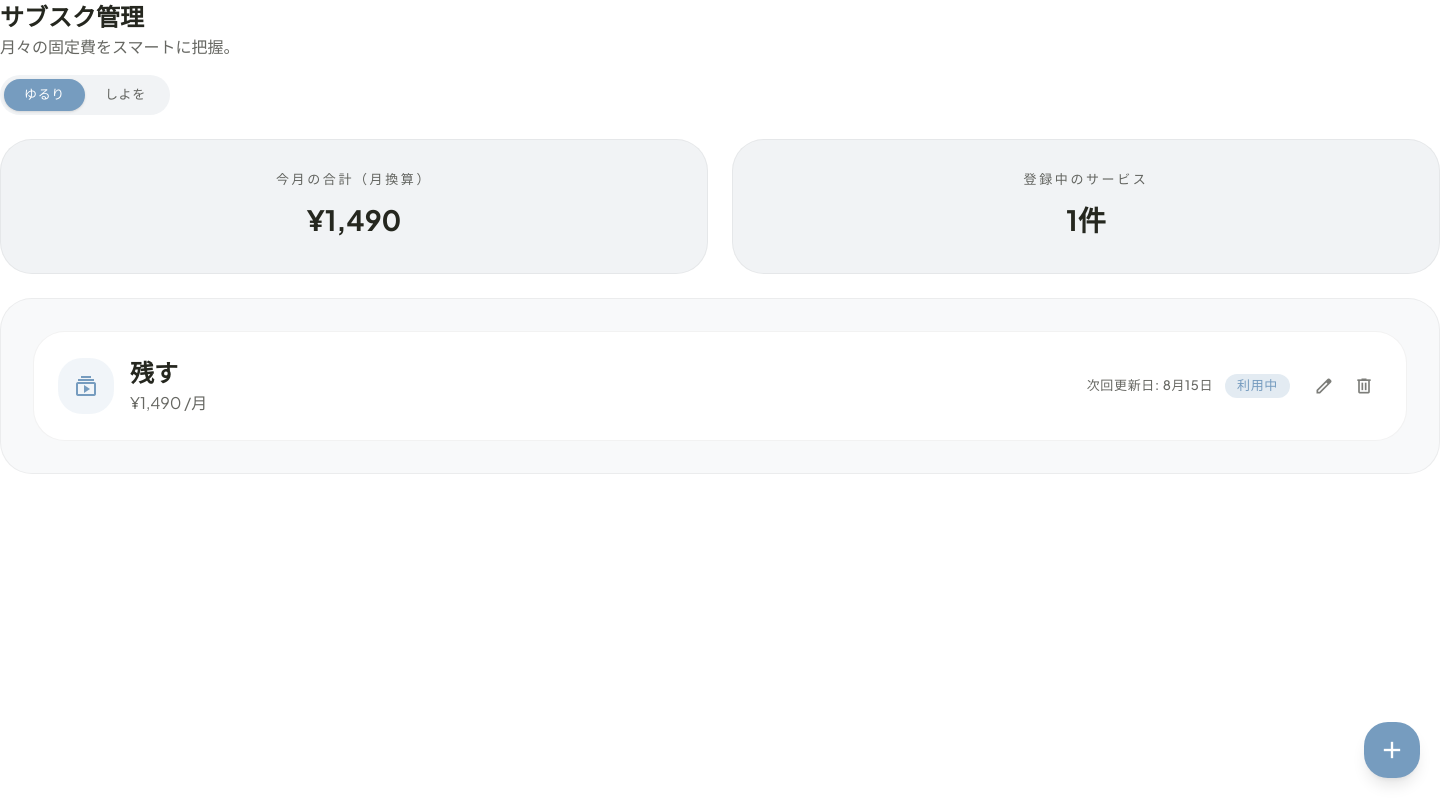
Scenario: SubscriptionsPage 統合 › 削除: キャンセルでは削除しない
The image size is (1440, 810).
Expected: the heading "残す" is shown, x1=130 y1=357 x2=178 y2=387
Click the button named "削除": x=1364, y=386 x1=1346 y1=368 x2=1382 y2=404
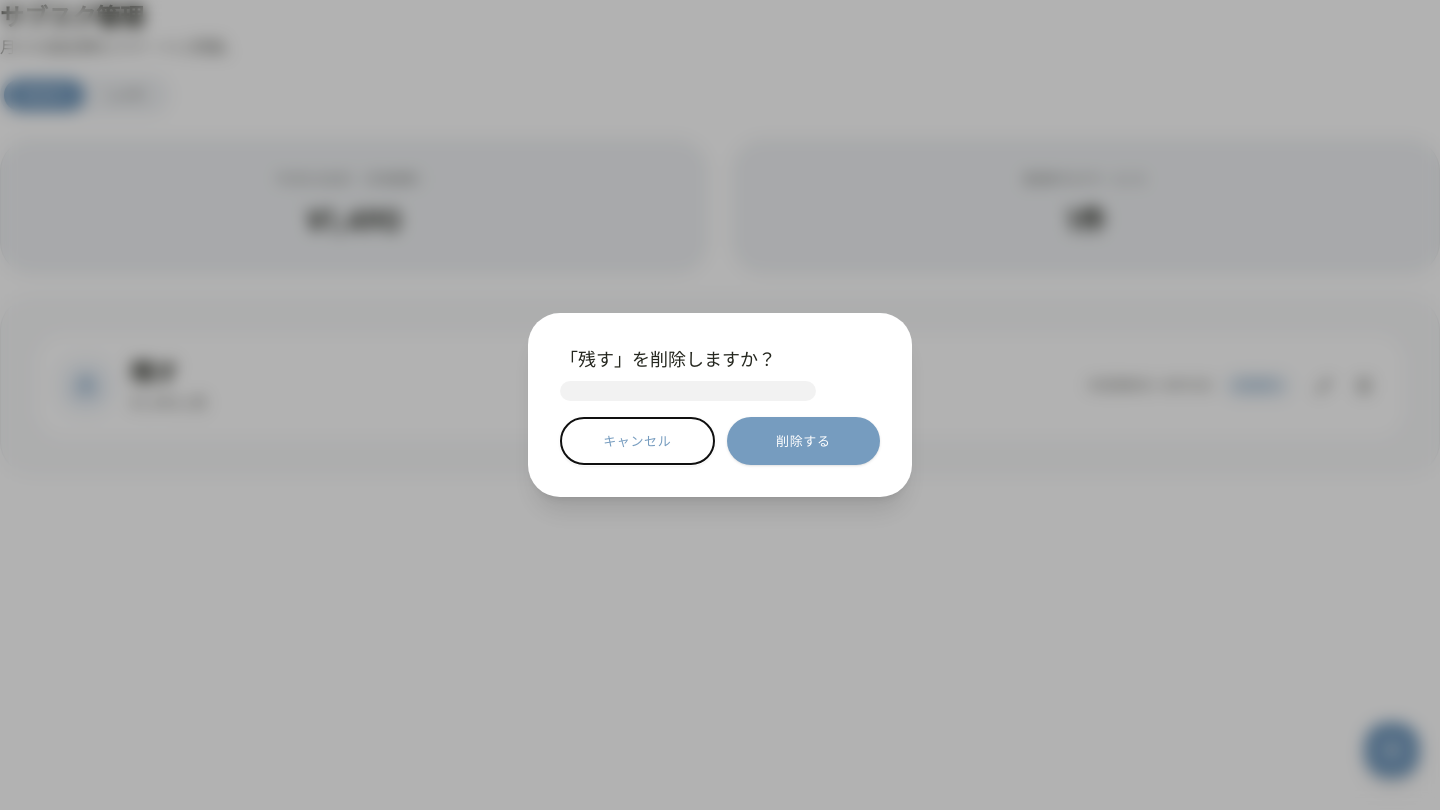
Click the button "キャンセル": x=637, y=441 x1=560 y1=417 x2=715 y2=465
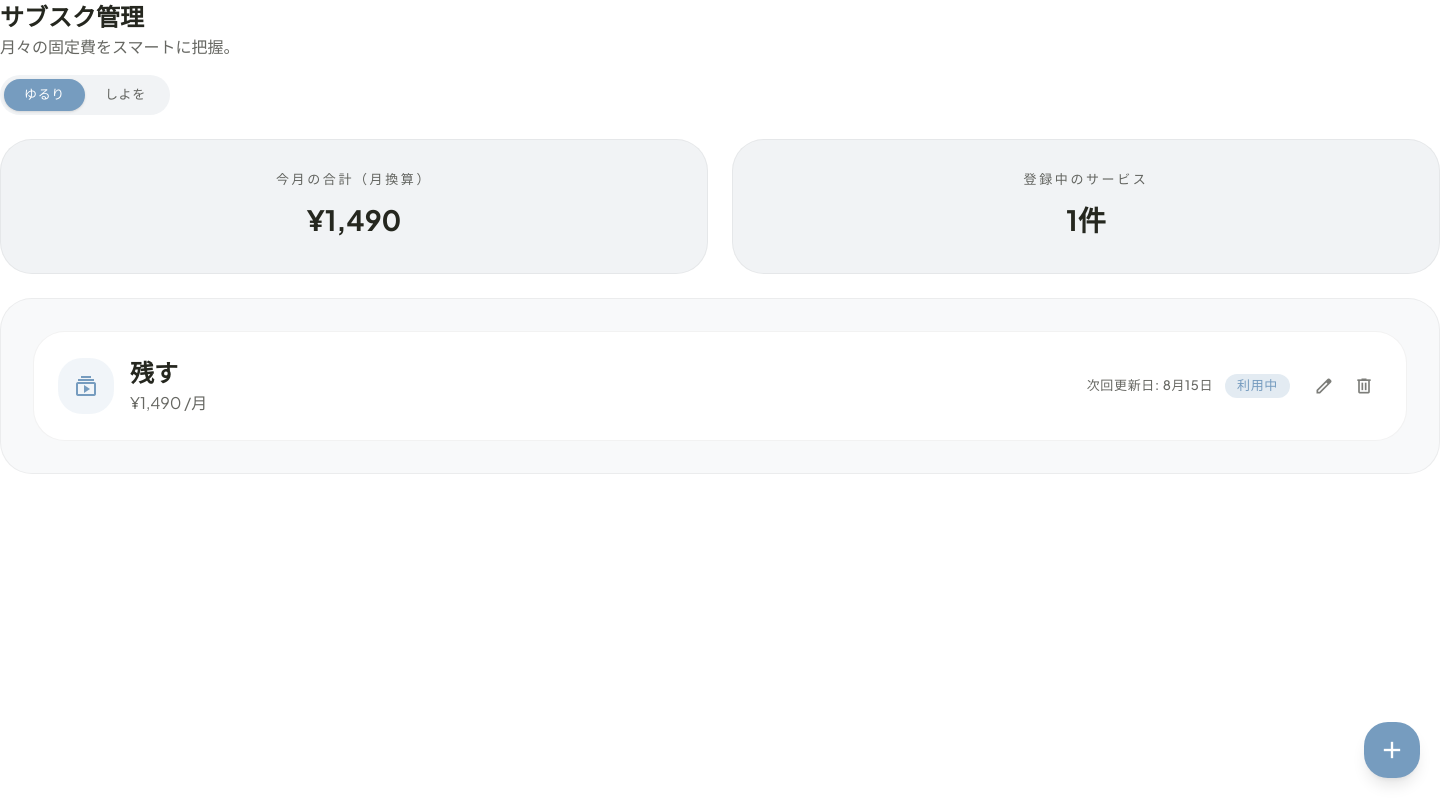
Expected: the heading "残す" is shown, x1=130 y1=357 x2=178 y2=387
Result: the dialog is gone
